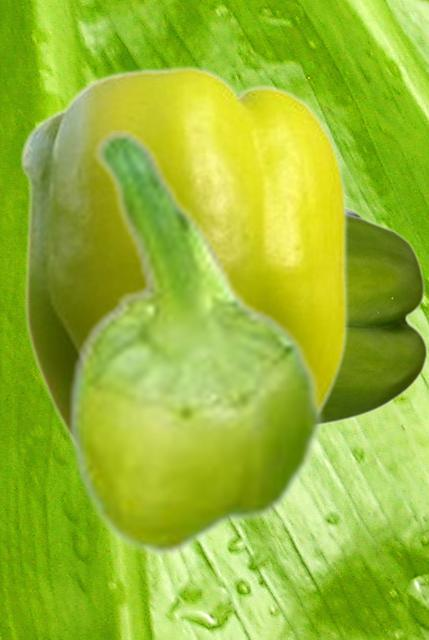bell_pepper: (19, 64, 347, 436), (66, 130, 324, 556), (325, 207, 427, 425)
